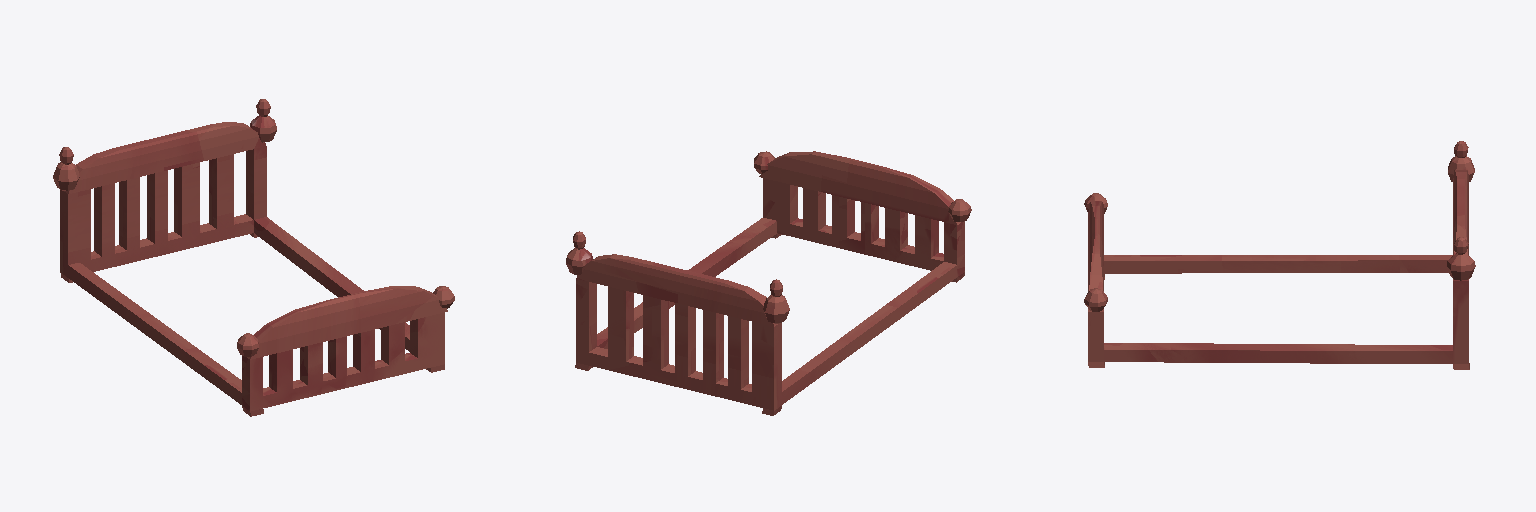
3 renders of one model, left to right at view 1: azimuth 30°, elevation 25°; view 2: azimuth 150°, elevation 25°; view 3: azimuth 270°, elevation 25°, orthographic.
Parts seen in each view (by area): view 1: Cube_None.001; view 2: Cube_None.001; view 3: Cube_None.001.
Boxes of the visible parts, <box> form: Cube_None.001: <box>53,99,454,416</box>; Cube_None.001: <box>566,151,971,415</box>; Cube_None.001: <box>1084,141,1475,369</box>.
Bounding box in the file's own units: 1.97 × 1.14 × 3.03.
Materials: 1 (1 with a texture image).